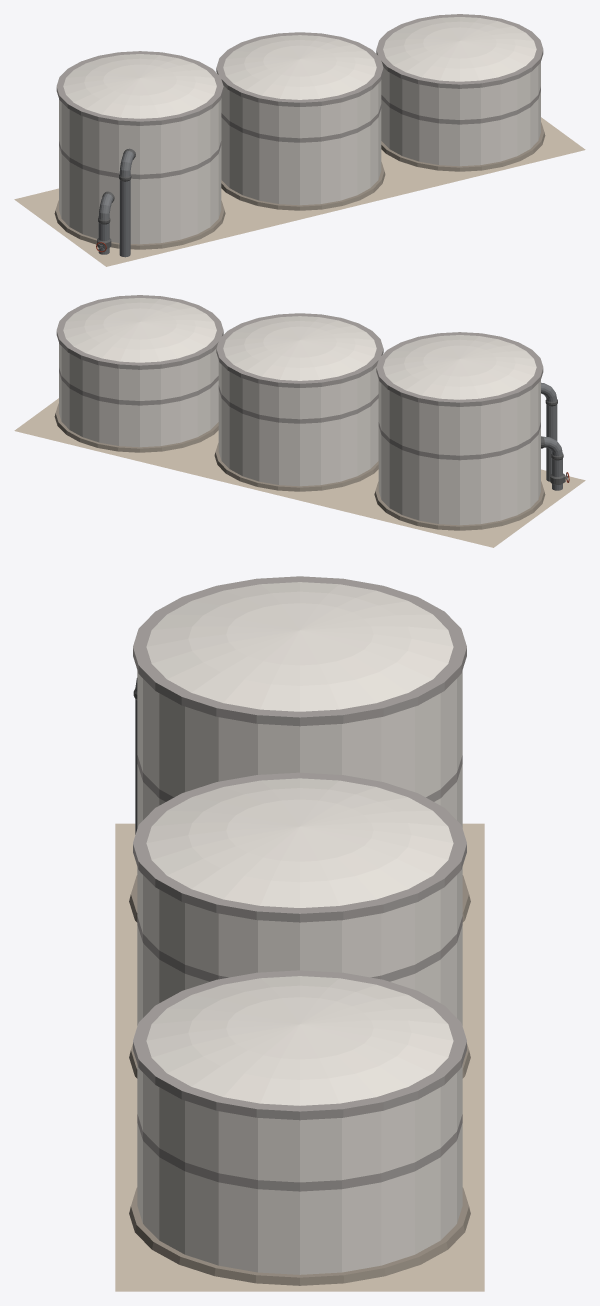
File: Tanks.fbx
The picture shows the model from 3 angles, top to bottom: view 1: azimuth 30°, elevation 25°; view 2: azimuth 150°, elevation 25°; view 3: azimuth 270°, elevation 25°; orthographic projection. The views are drawn at different scales.
Parts seen in each view (by area): view 1: big_tank_3, big_tank_2, big_tank_1; view 2: big_tank_3, big_tank_2, big_tank_1; view 3: big_tank_1, big_tank_2, big_tank_3.
Part boxes in pixels (<box>): big_tank_3: <box>14,51,265,266</box>; big_tank_2: <box>216,32,425,227</box>; big_tank_1: <box>376,14,585,188</box>; big_tank_3: <box>334,332,585,547</box>; big_tank_2: <box>174,313,383,508</box>; big_tank_1: <box>14,295,223,469</box>; big_tank_1: <box>115,970,484,1291</box>; big_tank_2: <box>115,772,484,1135</box>; big_tank_3: <box>115,576,484,979</box>.
Size of the model in its own units: 600 by 164 by 200.
